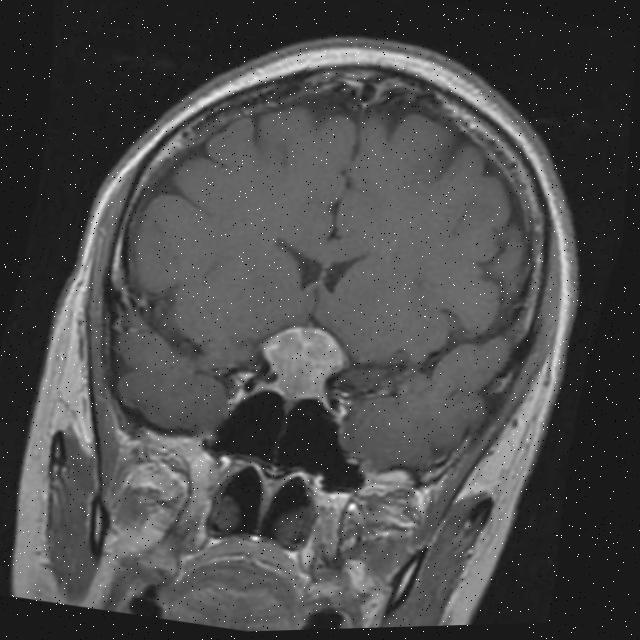Pituitary: (243, 314, 360, 415)
